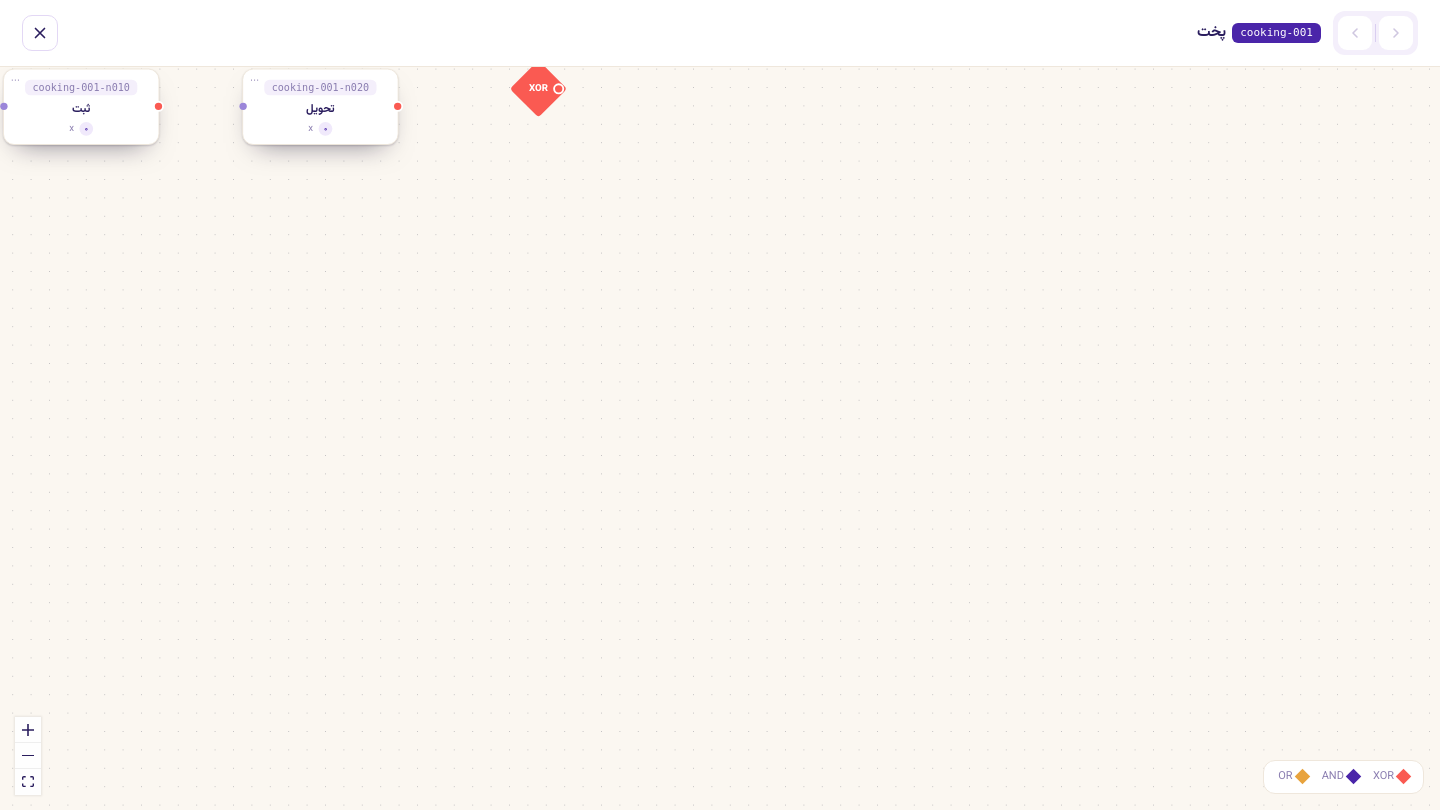
Test: the export viewer › renders no comment UI — no badge, no drawer section, no button
Click the text "ثبت" at (81, 109), box [72,100,90,118]
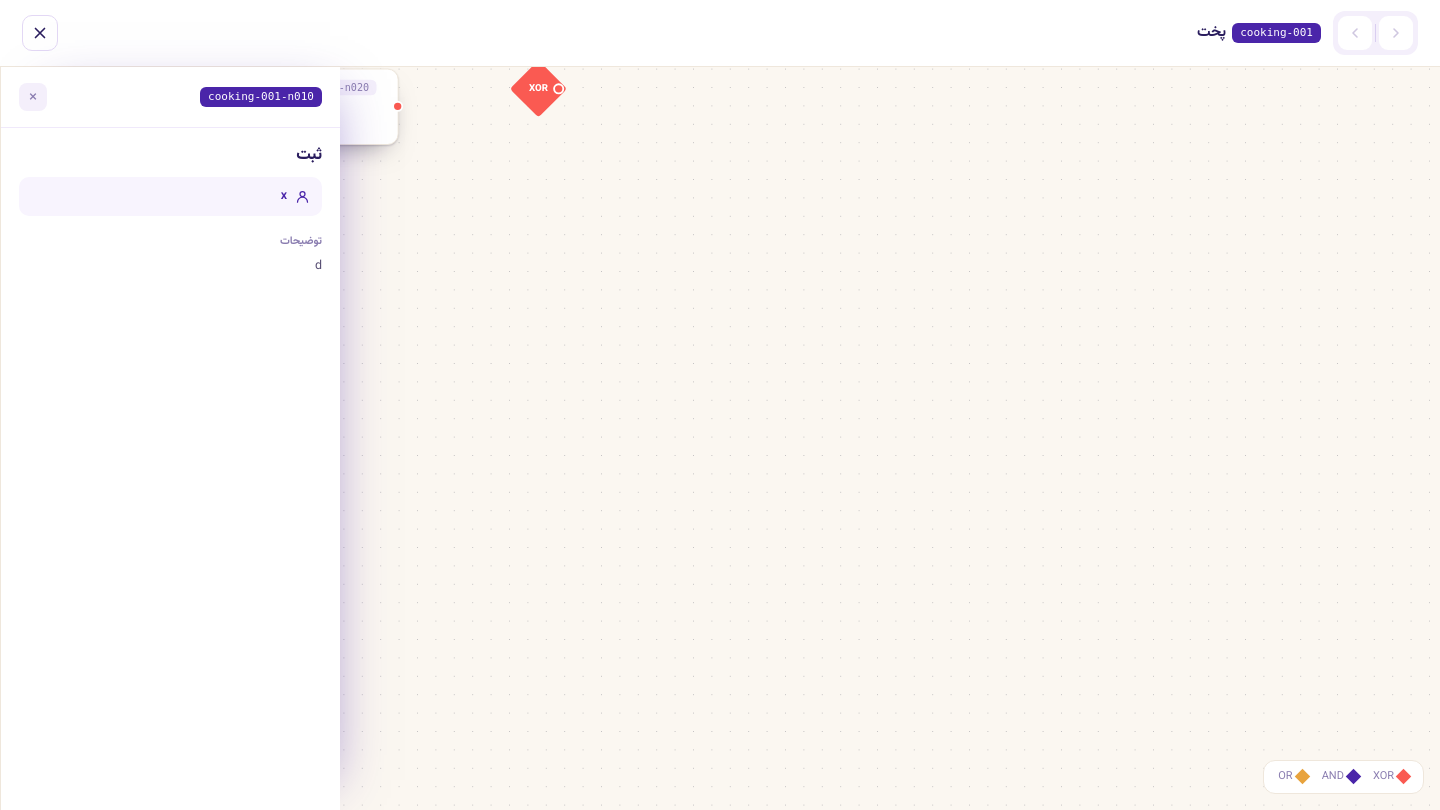
Check: the element showing "cooking-001-n010 × ثبت x توضیحات d" is shown, box [0,67,340,809]
